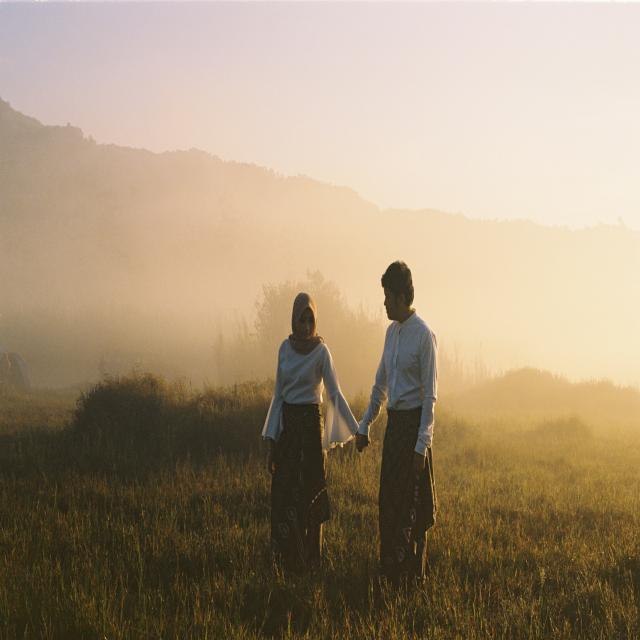adult: (262, 292, 358, 567), (358, 260, 438, 583)
